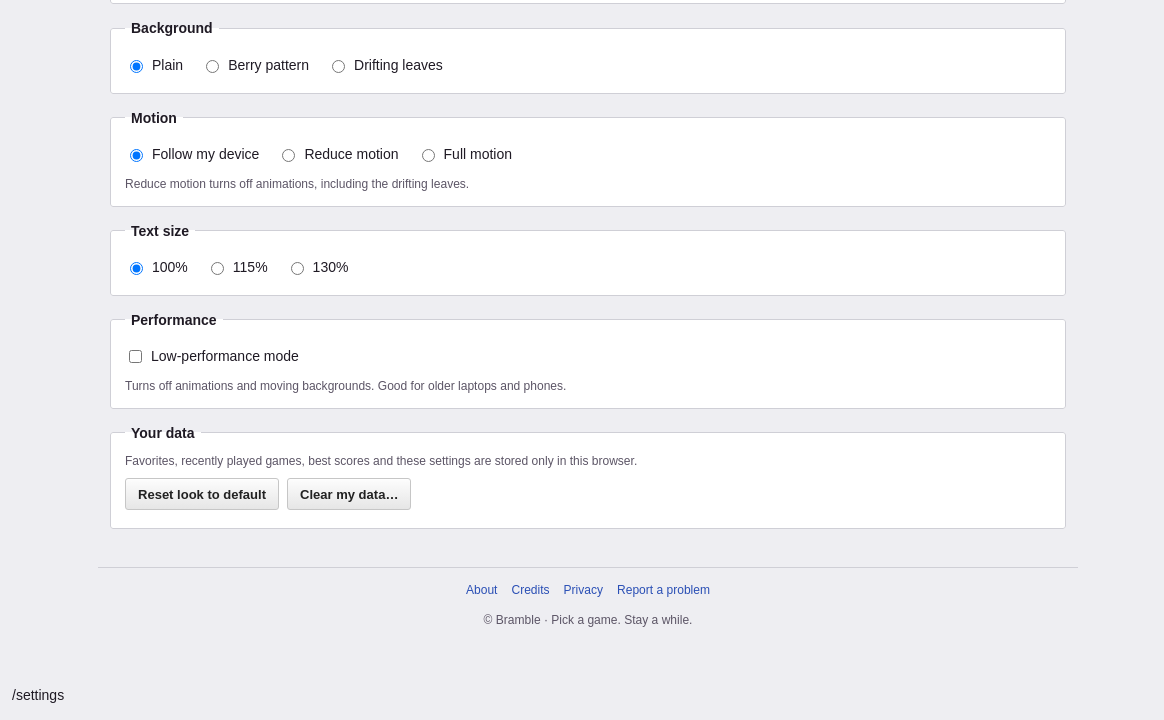
Test case: SettingsPage › Clear my data asks for confirmation and then empties favorites
(page scrolled)
What coordinates should you click on to do the following:
click the button "Clear my data…"
I would click on:
 (349, 494)
Its box is [287,478,411,510].
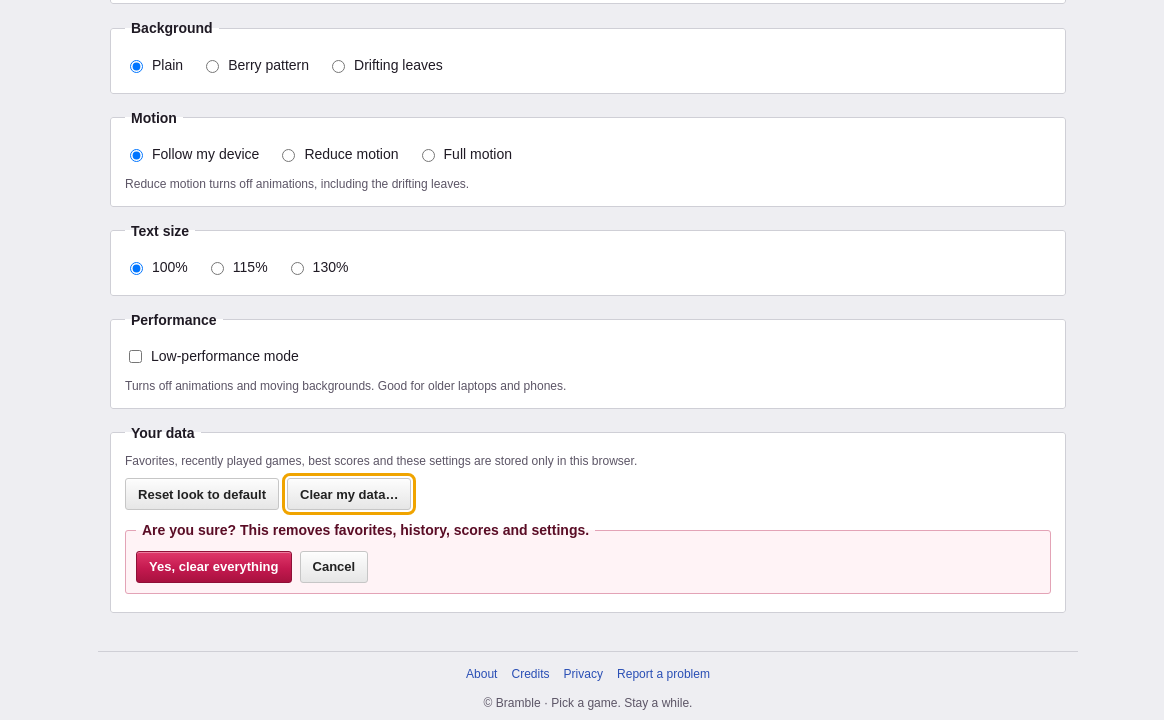
What coordinates should you click on to do the following:
click the button "Yes, clear everything"
I would click on:
 (214, 567)
Its box is [136,551,292,583].
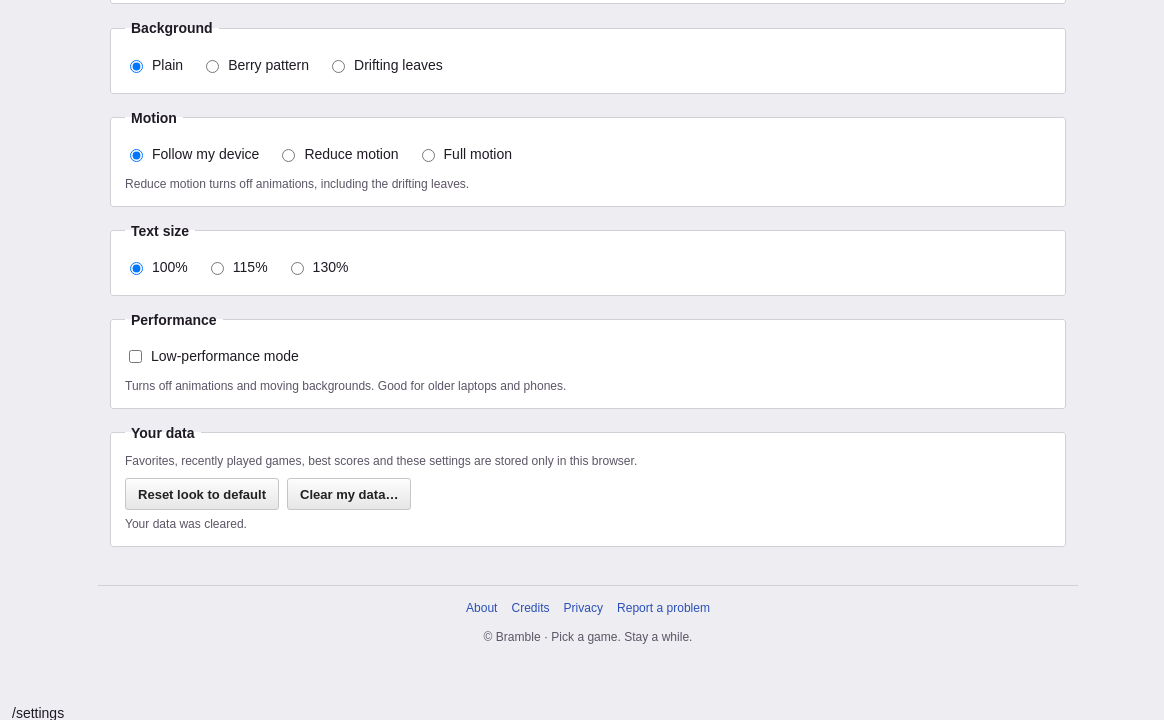
Result: the message shows "cleared" at [125,517,247,531]
